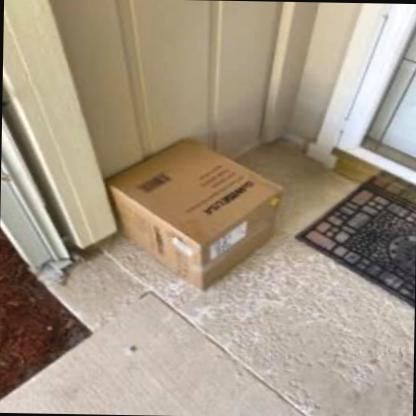box: (105, 135, 284, 294)
